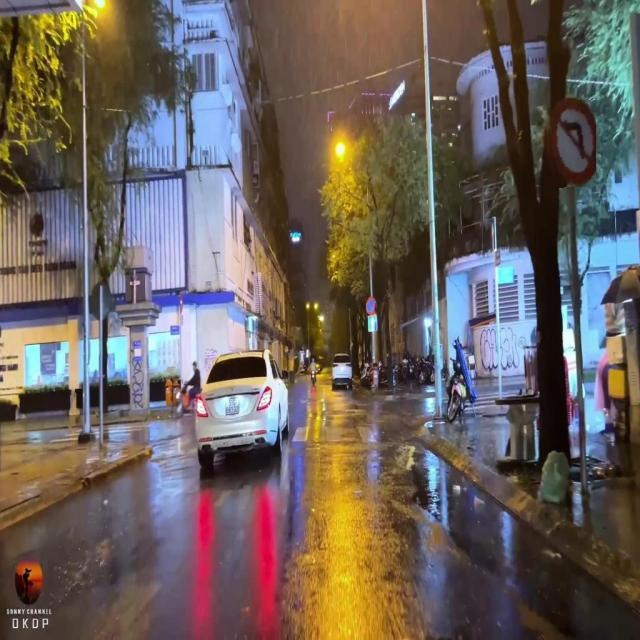123a-cam-re-trai: (552, 96, 598, 184)
407a-duong-mot-chieu: (368, 315, 377, 332)
